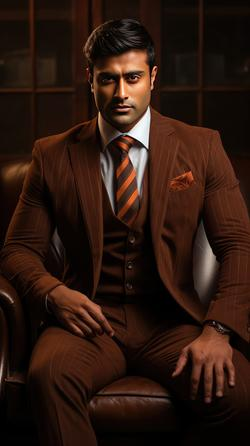Focused: (51, 9, 179, 161)
